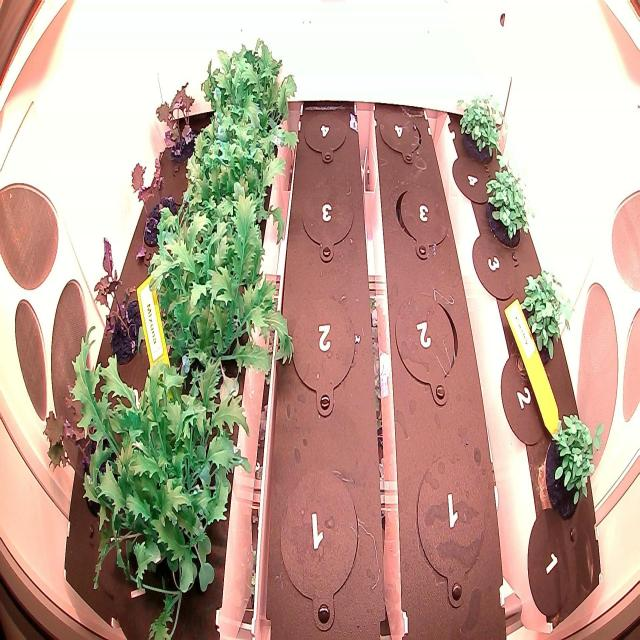empty_pod: (274, 456, 362, 620), (409, 444, 489, 606), (285, 280, 359, 413), (387, 288, 464, 401), (298, 172, 360, 265), (387, 175, 452, 259), (298, 94, 353, 173), (375, 105, 425, 171)
